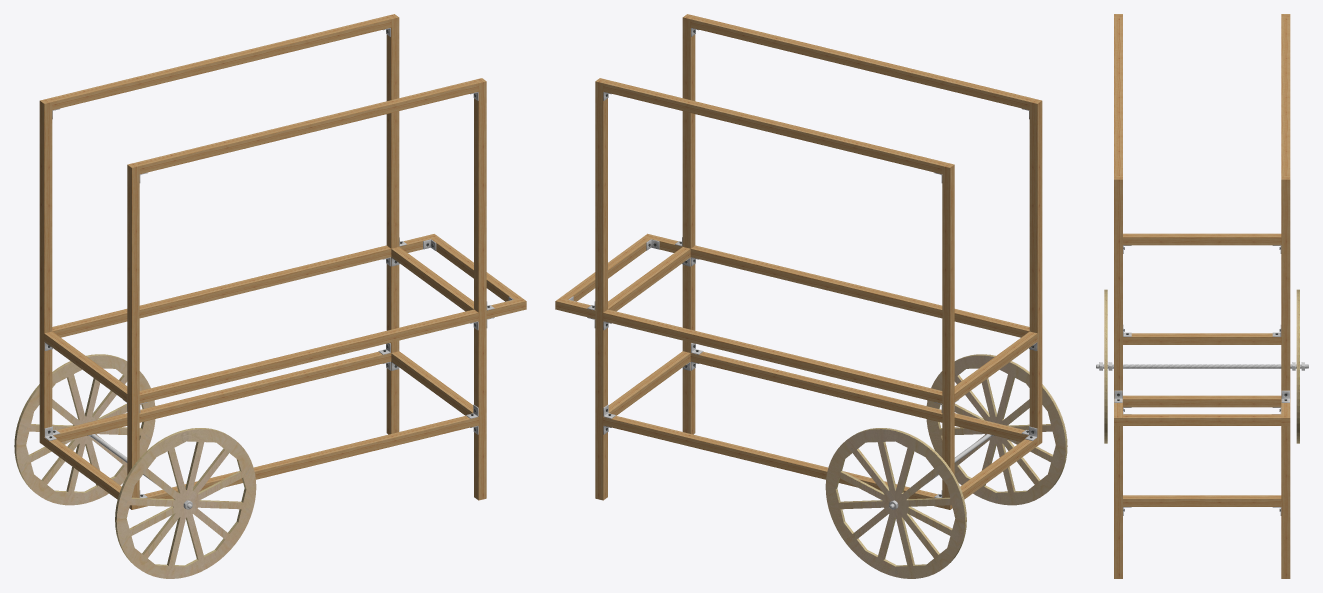
3 views of the same model, side by side, from view 1: azimuth 30°, elevation 25°; view 2: azimuth 150°, elevation 25°; view 3: azimuth 270°, elevation 25° (orthographic). The views are drawn at different scales.
Visible parts, largest first — view 1: KOLESO.025, KOLESO.026, Куб.319, Куб.323, Куб.330, Куб.331, Куб.320, Куб.326, Куб.324, Куб.325, Куб.322, Куб.321 (+5 smaller); view 2: KOLESO.026, KOLESO.025, Куб.323, Куб.319, Куб.330, Куб.331, Куб.324, Куб.322, Куб.320, Куб.321, Куб.326, Куб.325 (+5 smaller); view 3: Куб.323, Куб.319, Куб.318, Куб.328, Куб.315, Куб.327, Куб.329, Куб.331, Куб.330, Head.Hex.External.Screw.011, KOLESO.025, KOLESO.026.
Boxes of the visible parts, x1,y1,x2,y2 form: KOLESO.025: (115,428,256,578); KOLESO.026: (14,354,155,505); Куб.319: (474,78,486,500); Куб.323: (386,14,399,434); Куб.330: (135,80,478,174); Куб.331: (48,16,391,110); Куб.320: (139,309,478,403); Куб.326: (39,98,52,445); Куб.324: (52,245,391,337); Куб.325: (53,351,391,441); Куб.322: (127,163,139,509); Куб.321: (139,416,478,507); KOLESO.026: (825,428,966,578); KOLESO.025: (926,354,1067,505); Куб.323: (595,78,607,500); Куб.319: (682,14,695,434); Куб.330: (690,16,1033,110); Куб.331: (603,80,946,174); Куб.324: (603,309,942,403); Куб.322: (1029,98,1042,445); Куб.320: (690,245,1029,337); Куб.321: (690,351,1028,441); Куб.326: (942,163,954,509); Куб.325: (603,416,942,507); Куб.323: (1281,176,1290,578); Куб.319: (1114,176,1122,578); Куб.318: (1123,395,1281,407); Куб.328: (1123,233,1281,245); Куб.315: (1123,414,1281,425); Куб.327: (1123,495,1281,506); Куб.329: (1123,333,1281,344); Куб.331: (1281,17,1290,175); Куб.330: (1114,17,1122,175); Head.Hex.External.Screw.011: (1096,364,1308,368); KOLESO.025: (1104,289,1107,443); KOLESO.026: (1296,289,1299,443).
Bounding box in the file's own units: 2.08 × 2 × 0.9661.
